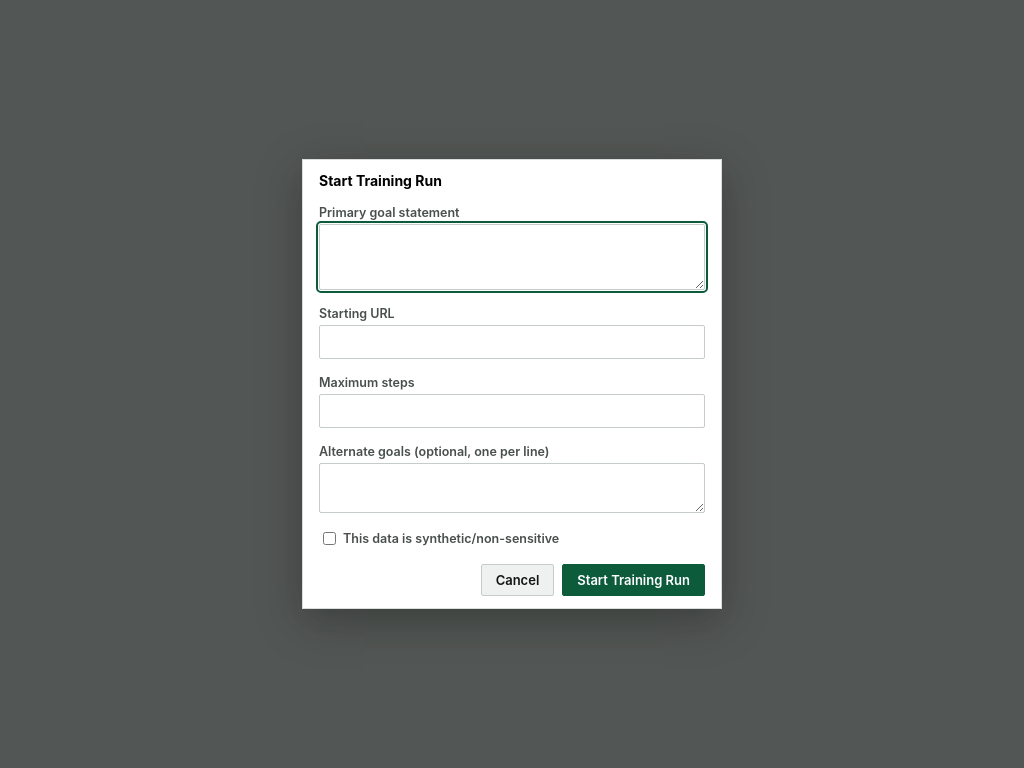
StartTrainingModal › shows an invalid-URL message for a non-URL starting URL value
In the text box labelled "Primary goal statement": (512, 257) [319, 224, 705, 290], type "Extract invoices"
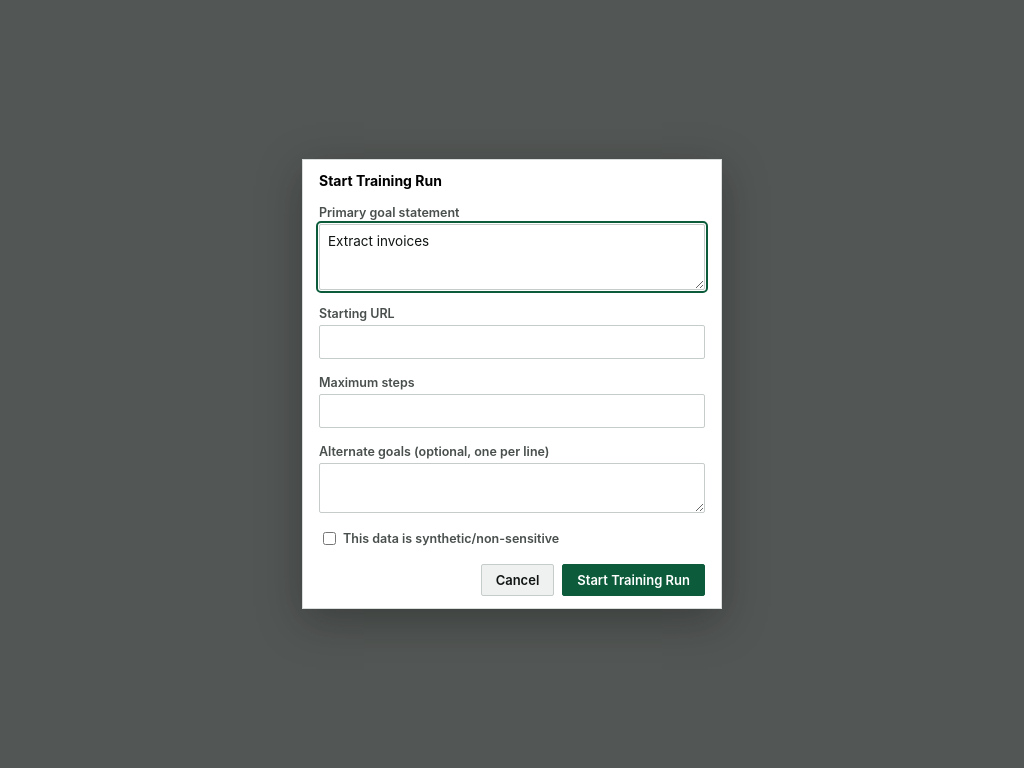
In the field labelled "Starting URL": (512, 342) [319, 325, 705, 359], type "not-a-url"
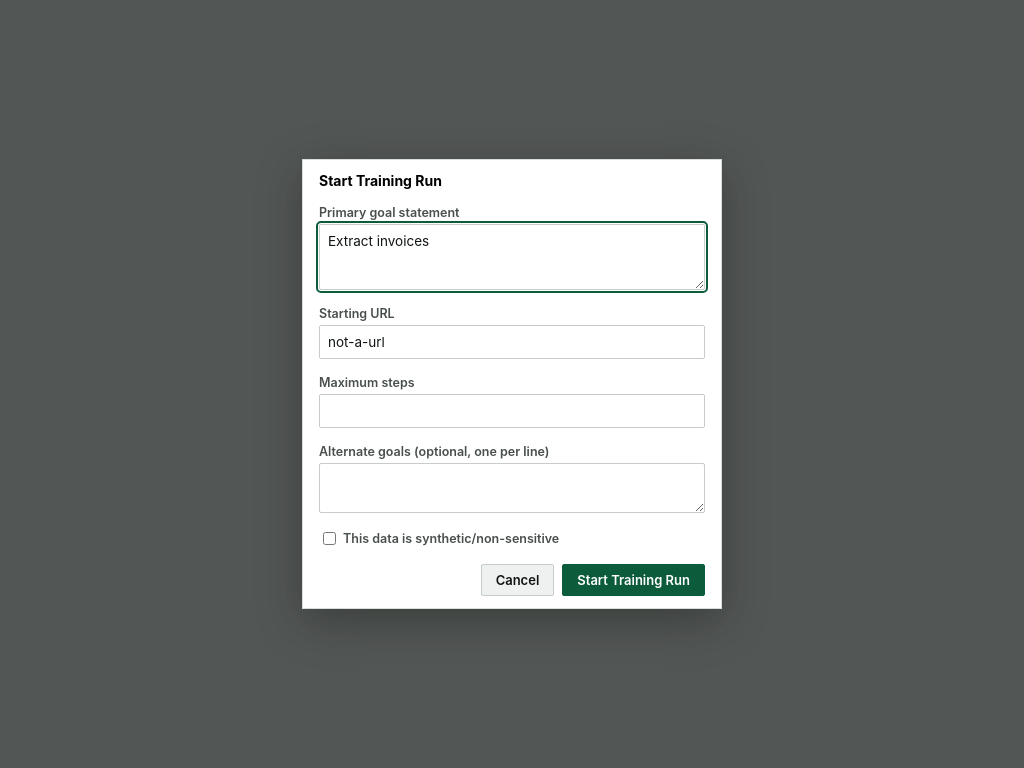
In the field labelled "Maximum steps": (512, 411) [319, 394, 705, 428], type "10"
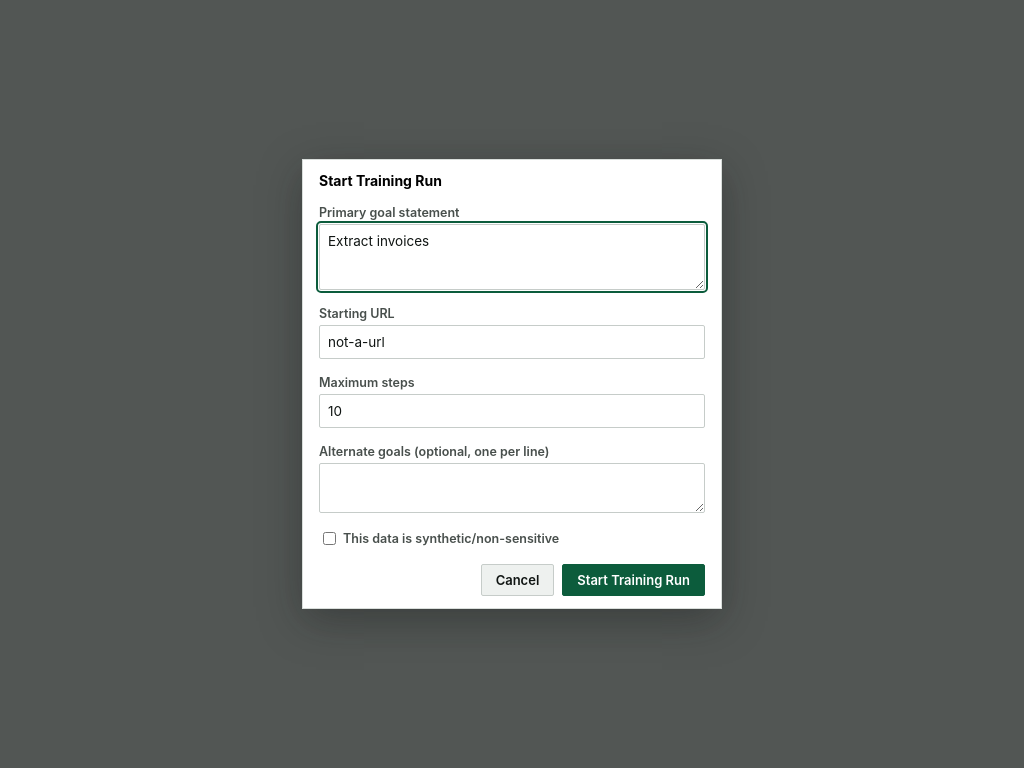
Click the button "Start Training Run": (634, 580) [562, 564, 705, 596]
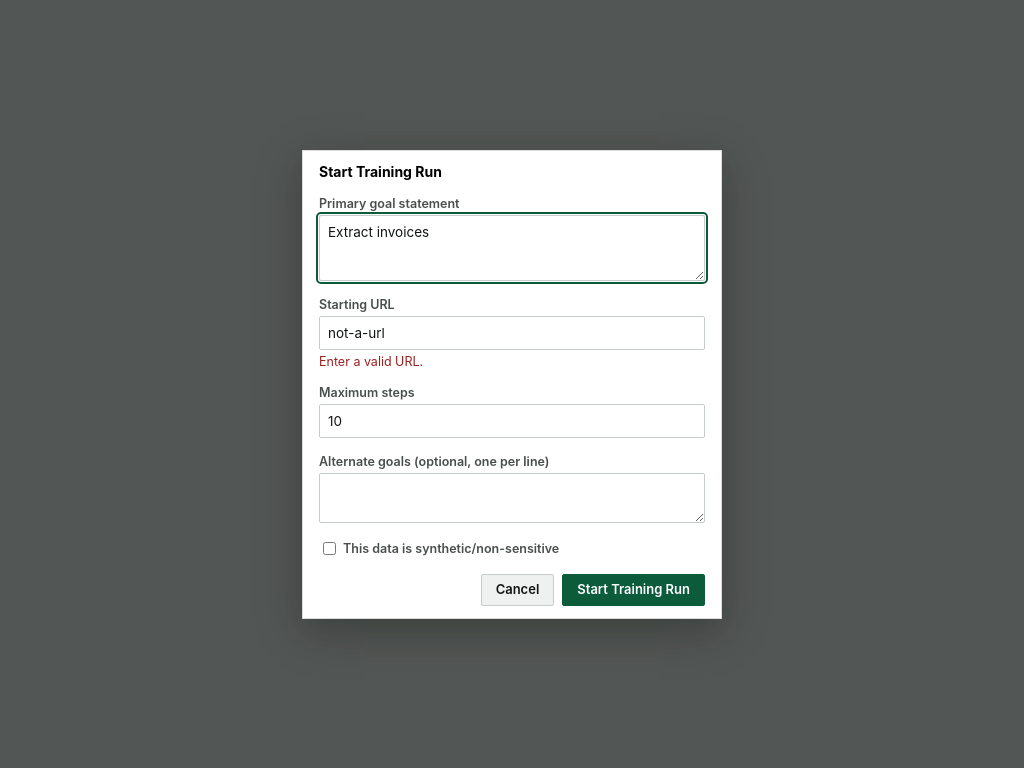
Expected: the text "Enter a valid URL." is shown, [319, 354, 423, 368]
